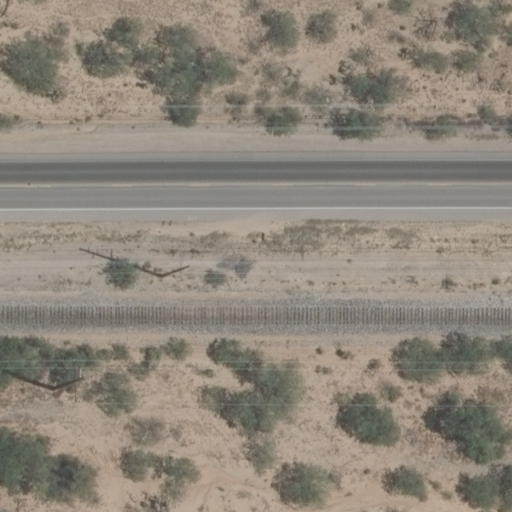DT: (55, 367, 92, 392), (157, 259, 190, 277)
